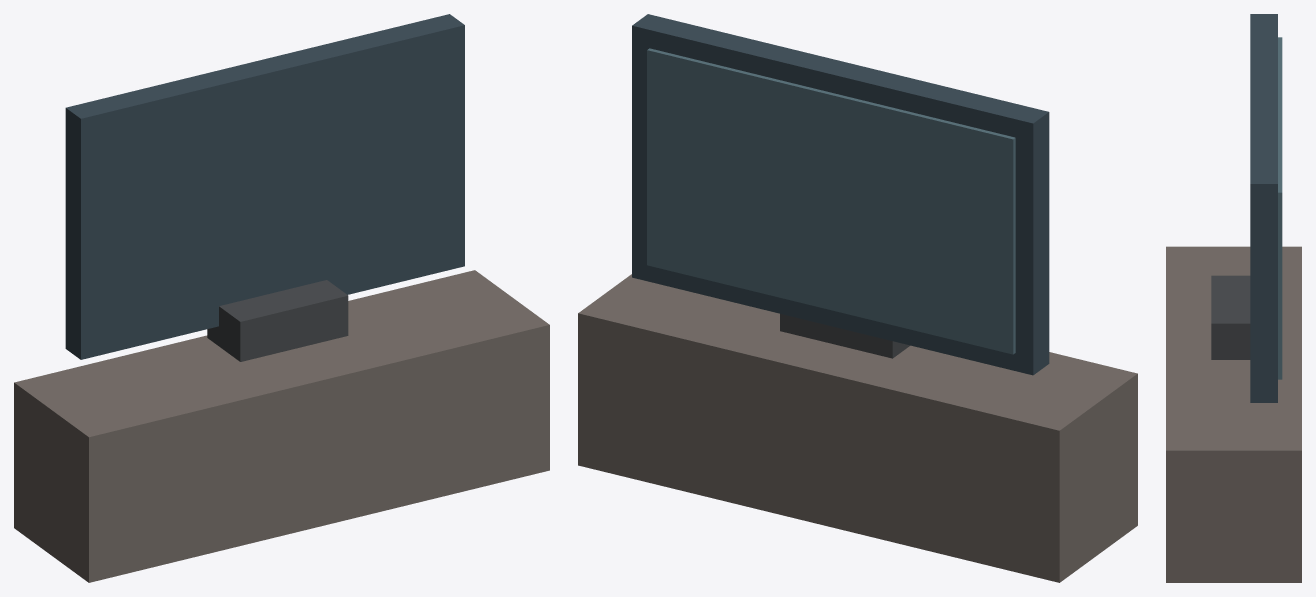
Rendered from tv_console.glb.
The picture shows the model from 3 angles, left to right: view 1: azimuth 30°, elevation 25°; view 2: azimuth 150°, elevation 25°; view 3: azimuth 270°, elevation 25°; orthographic projection. The views are drawn at different scales.
Parts seen in each view (by area): view 1: Console, Screen, TV_Stand; view 2: Console, Screen_Glow, Screen, TV_Stand; view 3: Console, Screen, TV_Stand, Screen_Glow.
Part boxes in pixels (x1=…): Console: x1=14, y1=270, x2=549, y2=582; Screen: x1=65, y1=14, x2=464, y2=359; TV_Stand: x1=207, y1=280, x2=348, y2=361; Console: x1=578, y1=274, x2=1137, y2=582; Screen_Glow: x1=647, y1=48, x2=1015, y2=354; Screen: x1=632, y1=14, x2=1049, y2=375; TV_Stand: x1=780, y1=313, x2=910, y2=358; Console: x1=1166, y1=246, x2=1301, y2=582; Screen: x1=1250, y1=14, x2=1277, y2=402; TV_Stand: x1=1211, y1=275, x2=1250, y2=359; Screen_Glow: x1=1278, y1=37, x2=1282, y2=379.
Size of the model in its own units: 1.92 by 1.67 by 0.54.
